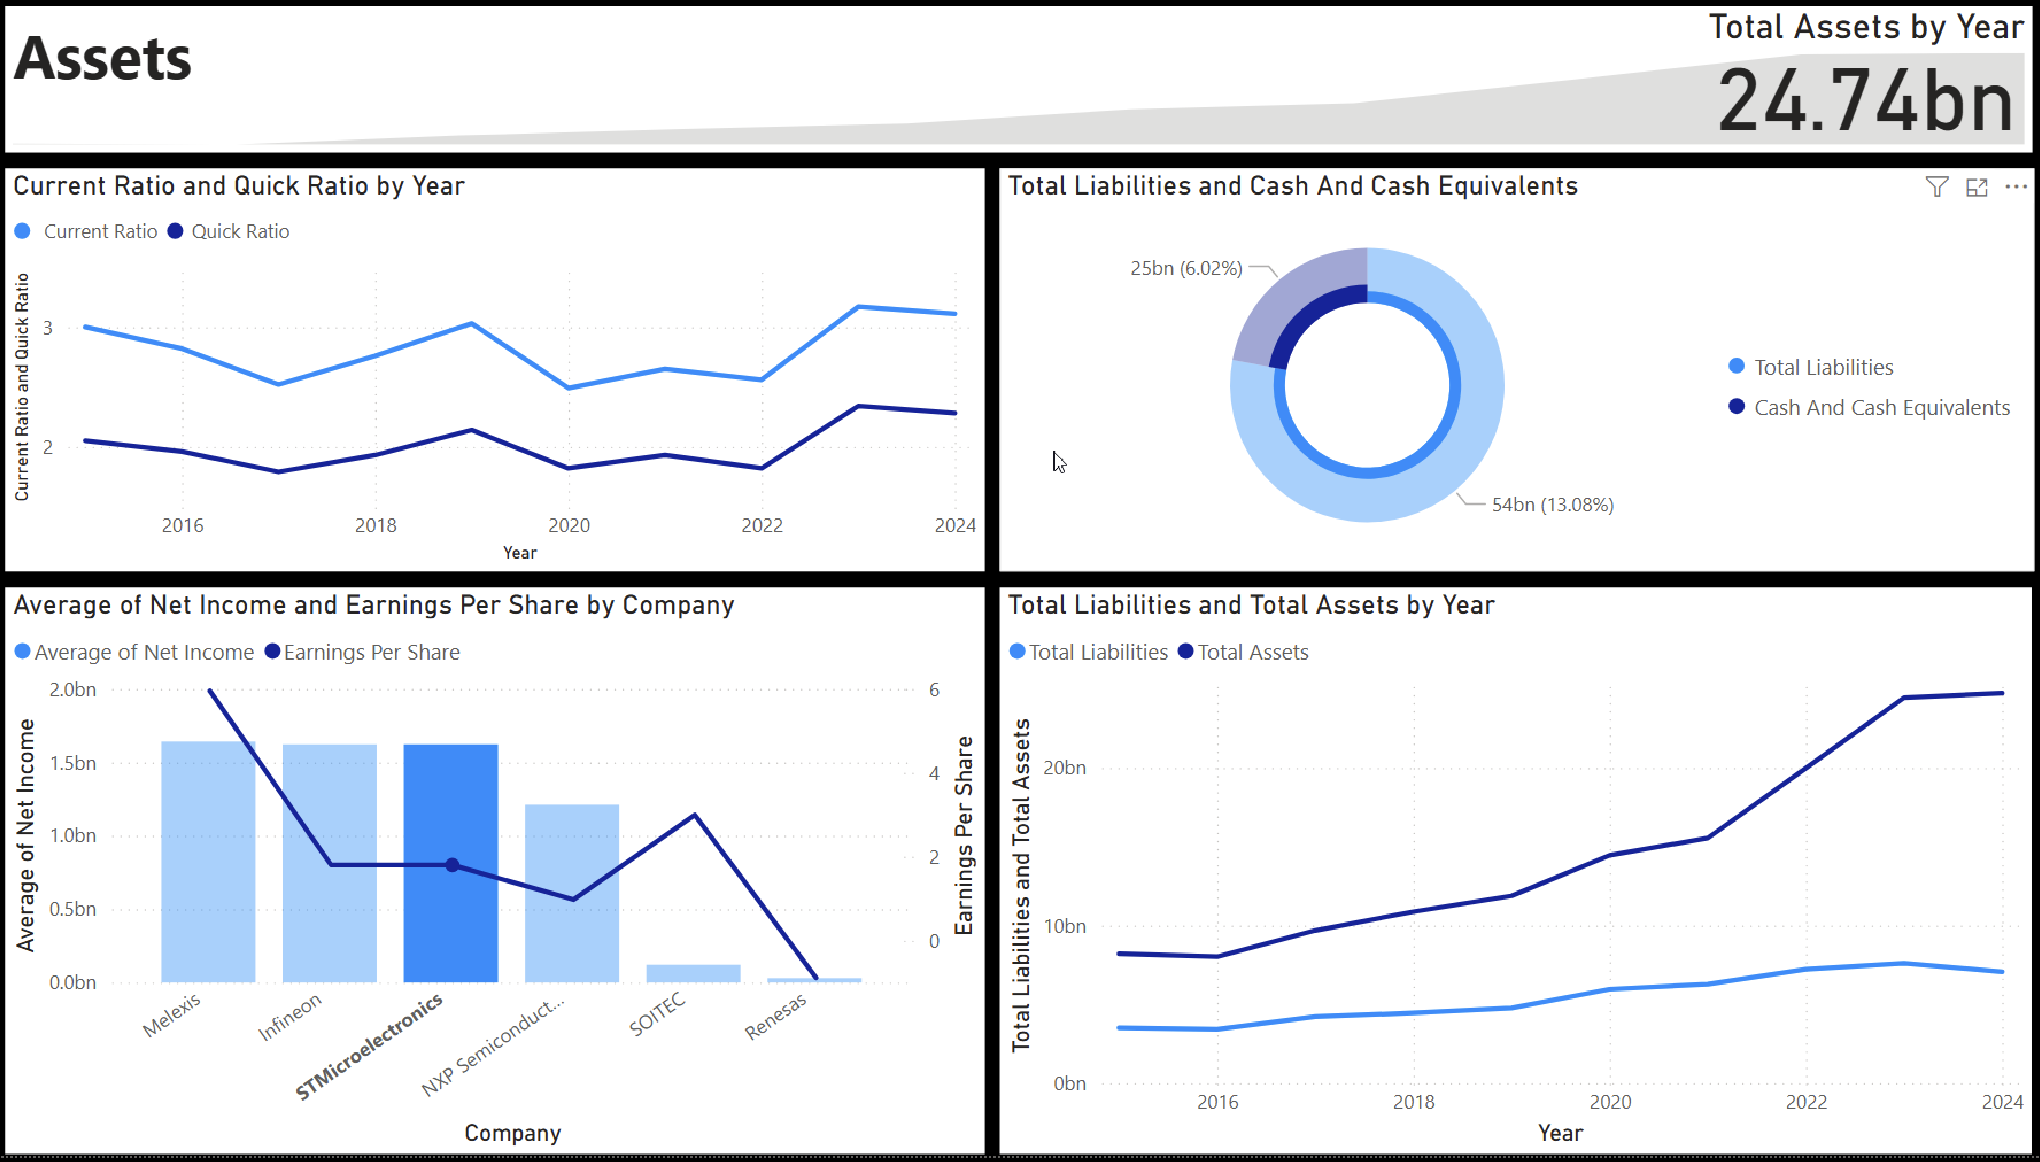

What the dashboard file says about the page in this screenshot:
{"tool":"powerbi","page":{"name":"Assets","canvas":[1280,720],"ordinal":2},"visuals":[{"type":"kpi","fields":{"TrendLine":["Copy of ready_cleaned_data.Year"],"Indicator":["Avg(Copy of ready_cleaned_data.Total Assets)"]},"box":[14.9,10.4,1251.5,90.7],"z":0},{"type":"textbox","box":[14.9,10.4,625.8,90.7],"z":1000},{"type":"lineClusteredColumnComboChart","fields":{"Category":["Copy of ready_cleaned_data.Company"],"Y":["Avg(Copy of ready_cleaned_data.Net Income)"],"Y2":["Avg(Copy of ready_cleaned_data.Basic EPS)"]},"box":[14.9,369.4,604.5,349.5],"z":2000},{"type":"lineChart","fields":{"Category":["Copy of ready_cleaned_data.Year"],"Y":["Sum(Copy of ready_cleaned_data.Current Ratio)","Sum(Copy of ready_cleaned_data.Quick Ratio)"]},"box":[14.9,110.7,604.5,248.8],"z":3000},{"type":"lineChart","fields":{"Category":["Copy of ready_cleaned_data.Year"],"Y":["Sum(Copy of ready_cleaned_data.Total Liabilities)","Sum(Copy of ready_cleaned_data.Total Assets)"]},"box":[629.3,369.4,636.8,349.5],"z":4000},{"type":"donutChart","fields":{"Y":["Sum(Copy of ready_cleaned_data.Total Liabilities)","Sum(Copy of ready_cleaned_data.Cash And Cash Equivalents)"]},"box":[629.3,110.7,638,248.8],"z":5000}]}

Visuals, with their boxes in screenshot pixels (x1, y1, x2, y2), scaled from the page's 1280x720 canvas onto the 2040x1162 screenshot:
kpi - Copy of ready_cleaned_data.Year x Avg(Copy of ready_cleaned_data.Total Assets): Rect(24, 17, 2018, 163)
textbox: Rect(24, 17, 1021, 163)
lineClusteredColumnComboChart - Copy of ready_cleaned_data.Company x Avg(Copy of ready_cleaned_data.Net Income): Rect(24, 596, 987, 1160)
lineChart - Copy of ready_cleaned_data.Year x Sum(Copy of ready_cleaned_data.Current Ratio): Rect(24, 179, 987, 580)
lineChart - Copy of ready_cleaned_data.Year x Sum(Copy of ready_cleaned_data.Total Liabilities): Rect(1003, 596, 2018, 1160)
donutChart - Sum(Copy of ready_cleaned_data.Total Liabilities) x Sum(Copy of ready_cleaned_data.Cash And Cash Equivalents): Rect(1003, 179, 2020, 580)
